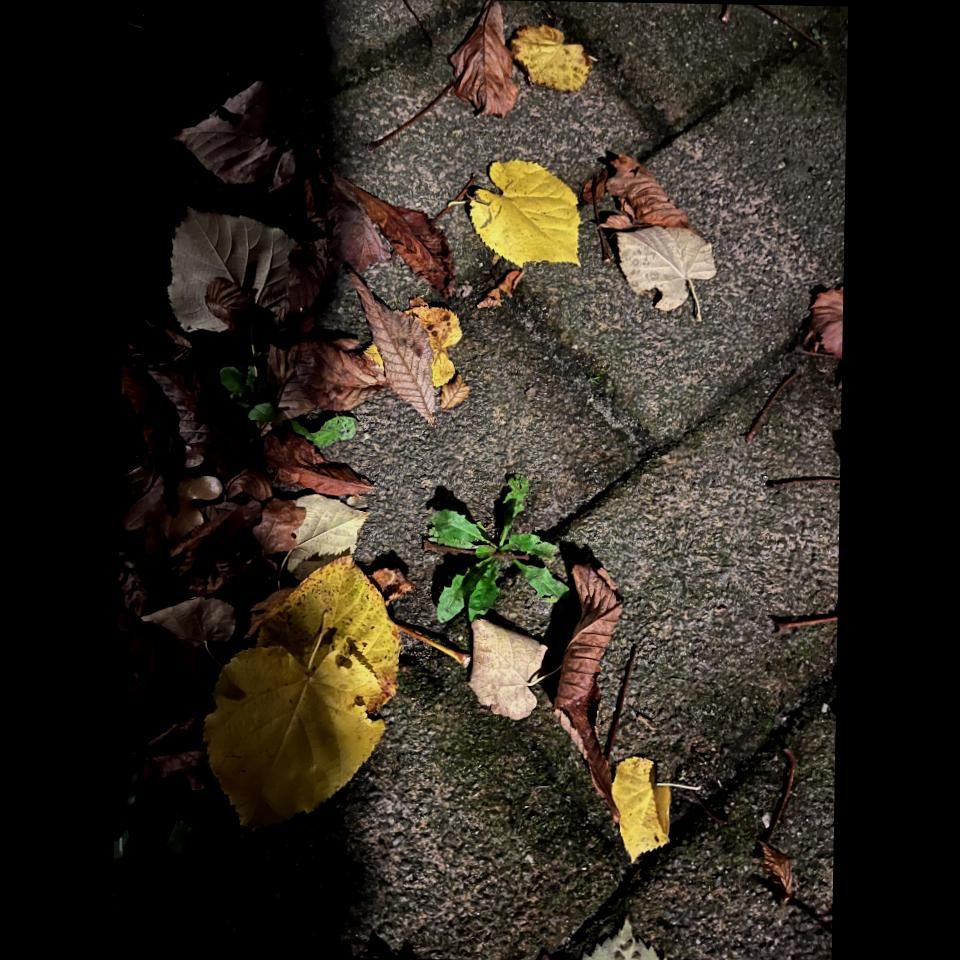weed: (402, 477, 584, 618), (219, 362, 365, 451)
